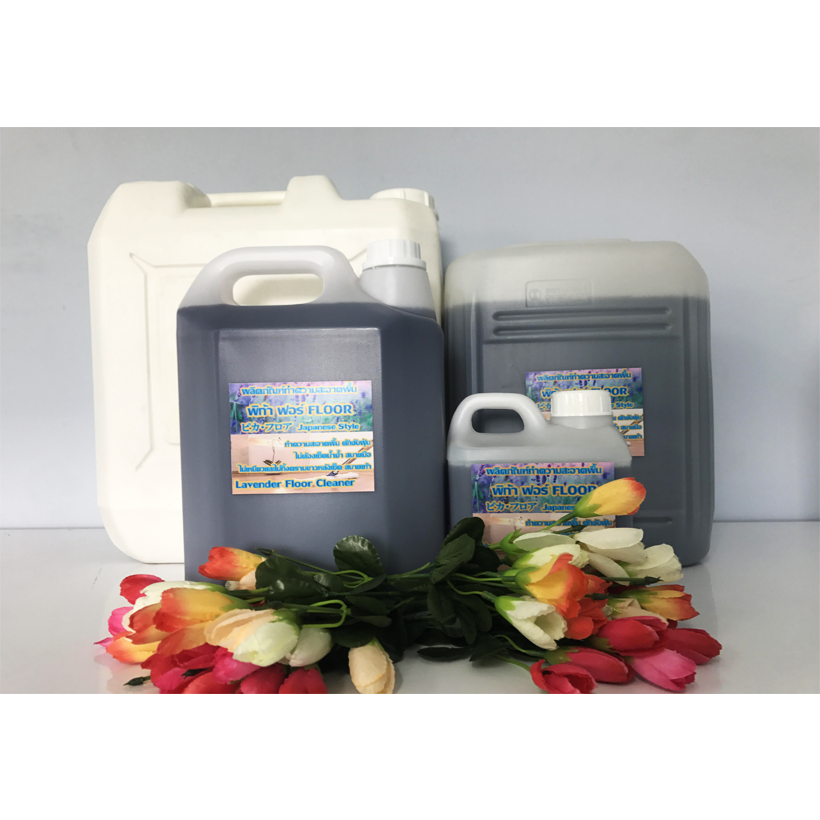Cleaning_solution: (166, 227, 450, 573), (443, 367, 637, 542)
